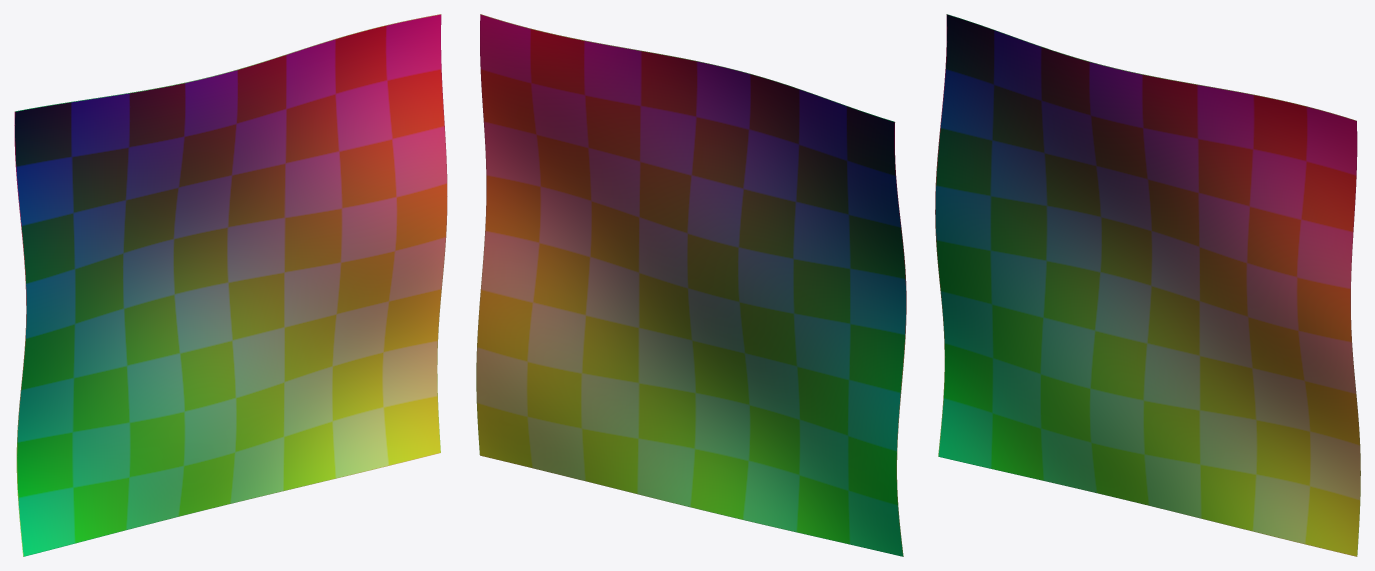
File: Tile_+014_+008.obj
3 views of the same model, side by side, from view 1: azimuth 30°, elevation 25°; view 2: azimuth 150°, elevation 25°; view 3: azimuth 330°, elevation 25° (orthographic).
Bounding box in the file's own units: 100 × 100 × 6.2.
